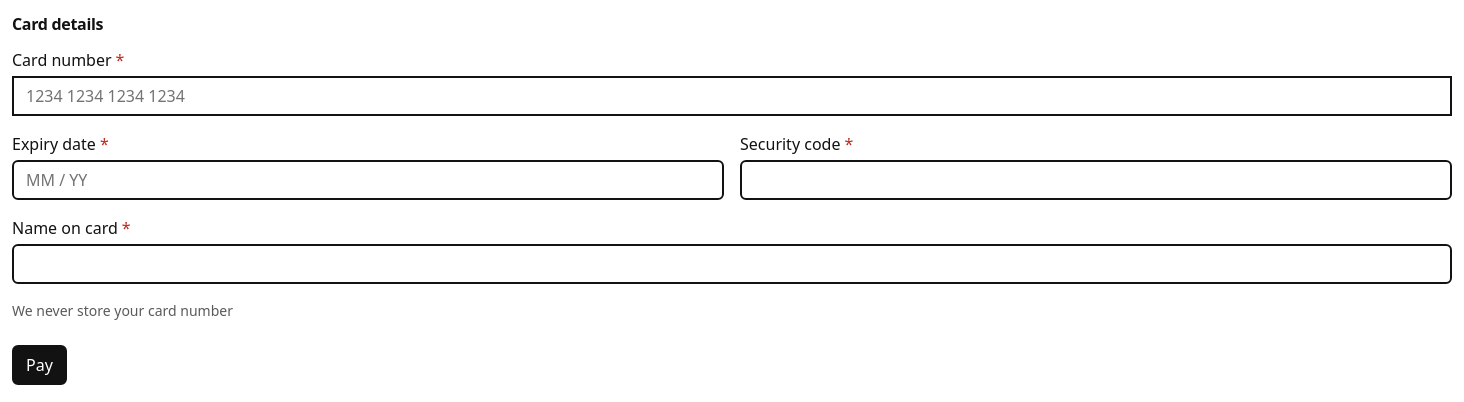
it: PaymentCardForm raw mode › AC-5: editing in the middle keeps the caret after the edited digit
In the field labelled "Card number*": (732, 96) [12,76,1452,116], type "42424242"
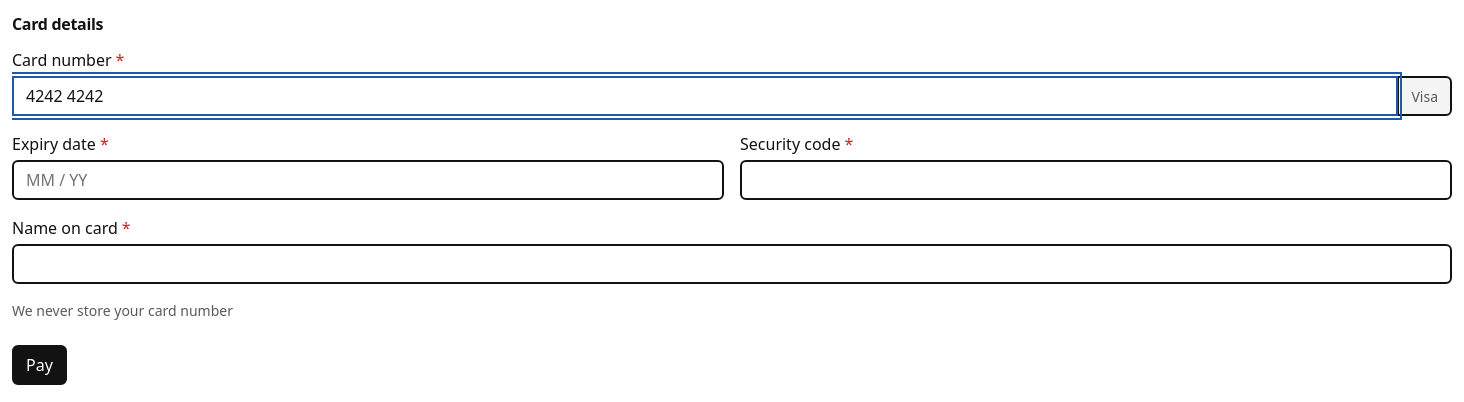
Type keys "9"
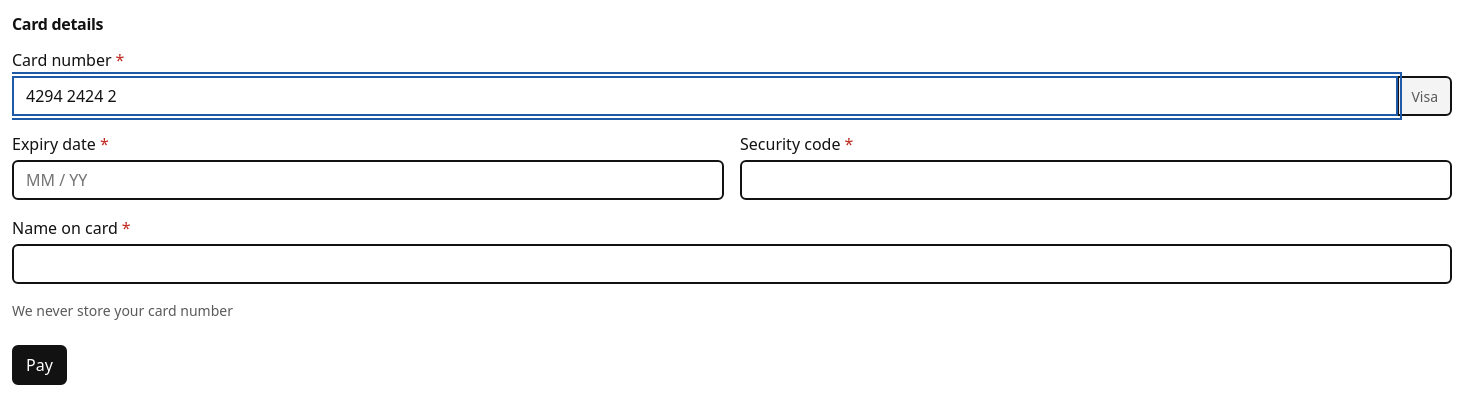
expect the field labelled "Card number*" holds "4294 2424 2": met, box [12,76,1398,116]
